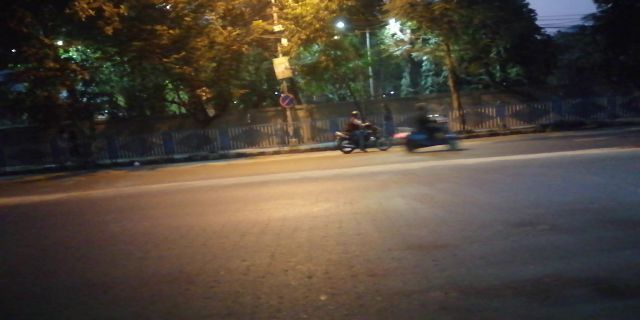Motorbike: (402, 104, 464, 149), (331, 109, 393, 153)
